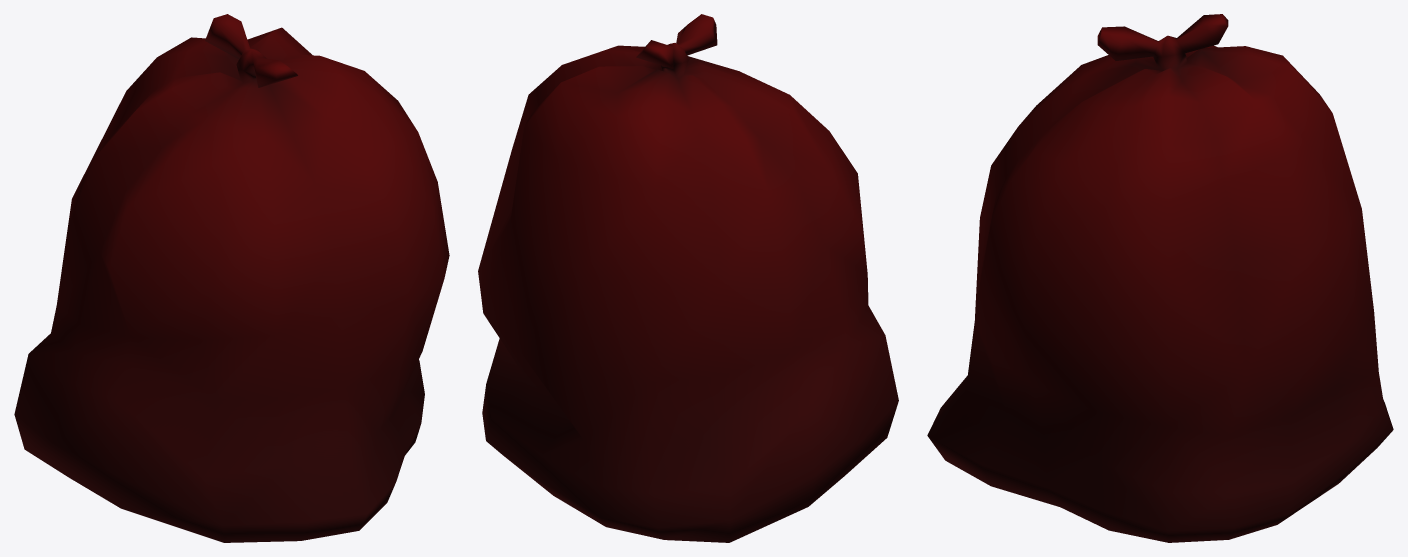
Rendered from GarbageBag001.glb.
The picture shows the model from 3 angles, left to right: view 1: azimuth 30°, elevation 25°; view 2: azimuth 150°, elevation 25°; view 3: azimuth 270°, elevation 25°; orthographic projection. The views are drawn at different scales.
Visible parts, largest first — view 1: GarbageBag001; view 2: GarbageBag001; view 3: GarbageBag001.
Boxes of the visible parts, <box> form: GarbageBag001: <box>14,14,449,542</box>; GarbageBag001: <box>478,14,898,542</box>; GarbageBag001: <box>927,14,1393,542</box>.
Size of the model in its own units: 3.84 by 4.33 by 4.04.
